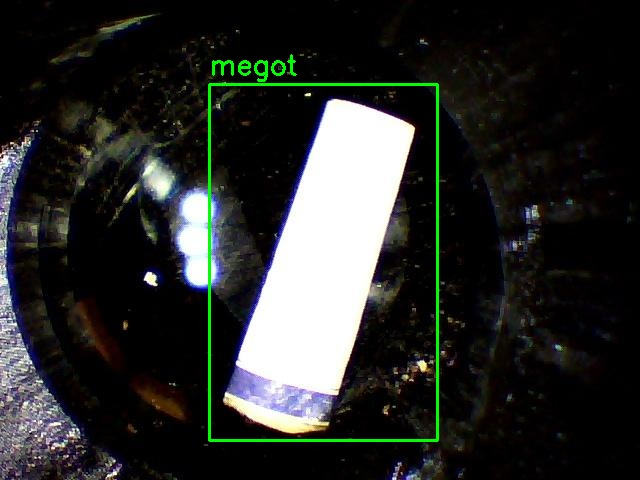megot: (209, 84, 437, 440)
